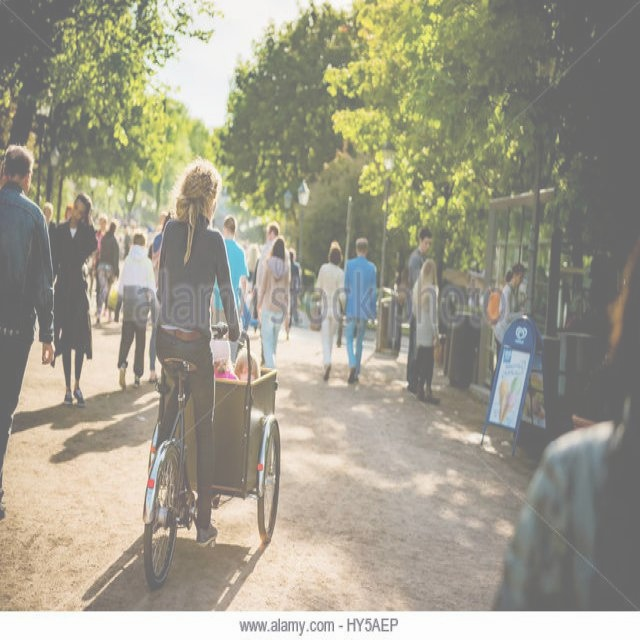pessoa: (488, 236, 639, 613), (144, 155, 242, 552), (0, 140, 56, 524), (47, 190, 99, 408), (112, 230, 158, 390), (308, 238, 348, 381), (254, 220, 292, 368), (342, 234, 378, 386), (404, 225, 434, 396), (255, 236, 292, 370), (208, 215, 251, 328), (410, 255, 443, 402), (491, 261, 528, 384), (532, 260, 570, 328), (98, 221, 120, 325), (92, 215, 109, 318), (244, 240, 259, 330), (114, 210, 138, 255), (289, 249, 302, 325), (233, 351, 261, 384), (155, 208, 167, 229), (42, 200, 53, 222), (63, 203, 74, 222), (158, 210, 168, 224)
